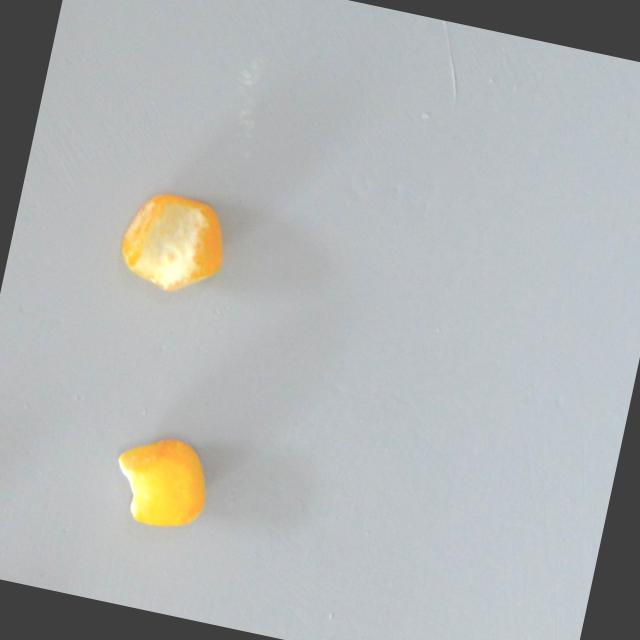pelicula: (109, 181, 236, 304), (100, 420, 220, 540)
